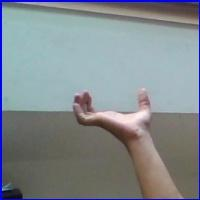space: (65, 81, 164, 140)
